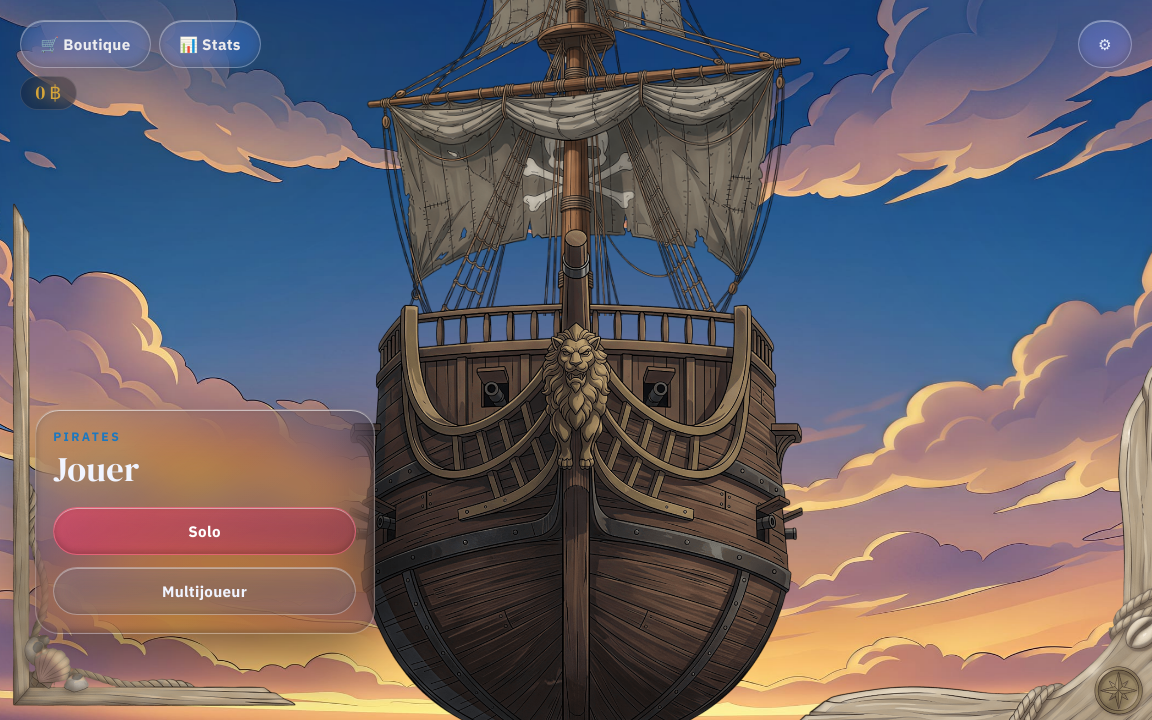
Scenario: DashboardPage — engrenage (touches / déconnexion) › revient au jeu depuis les touches
Step 1. Click the button named "Options" → x=1105, y=44, box [1078,20,1132,68]
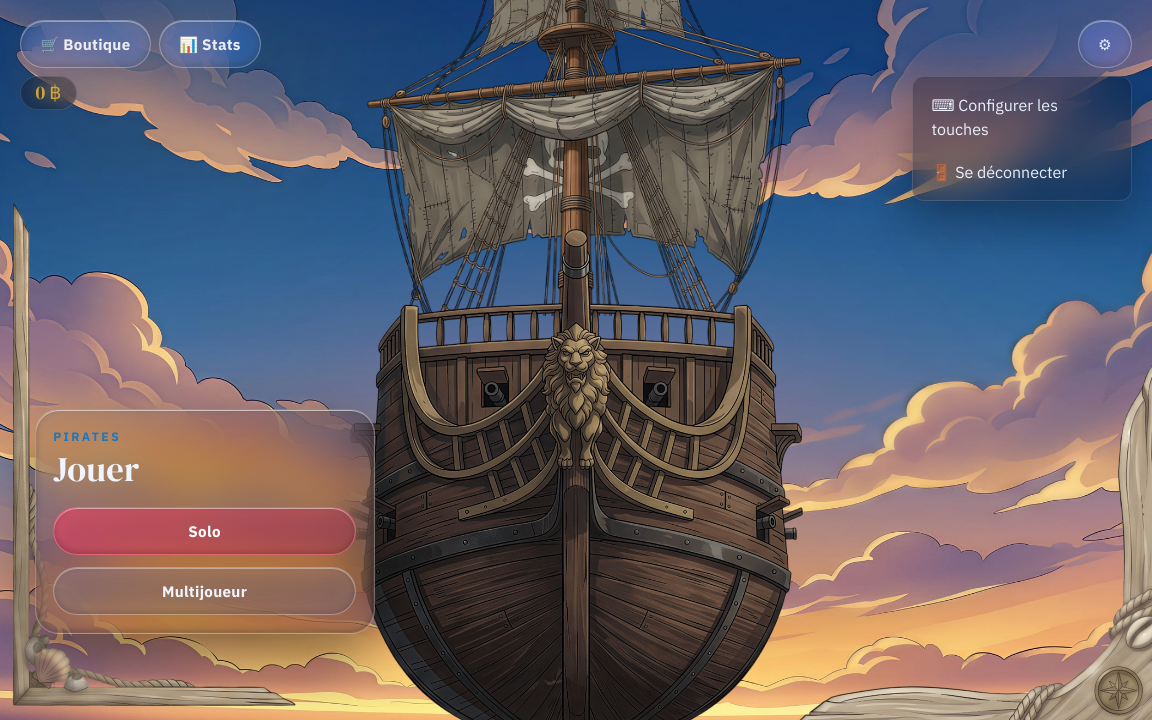
Step 2. Click the menu item "⌨ Configurer les touches" → x=1022, y=117, box [919,83,1125,151]
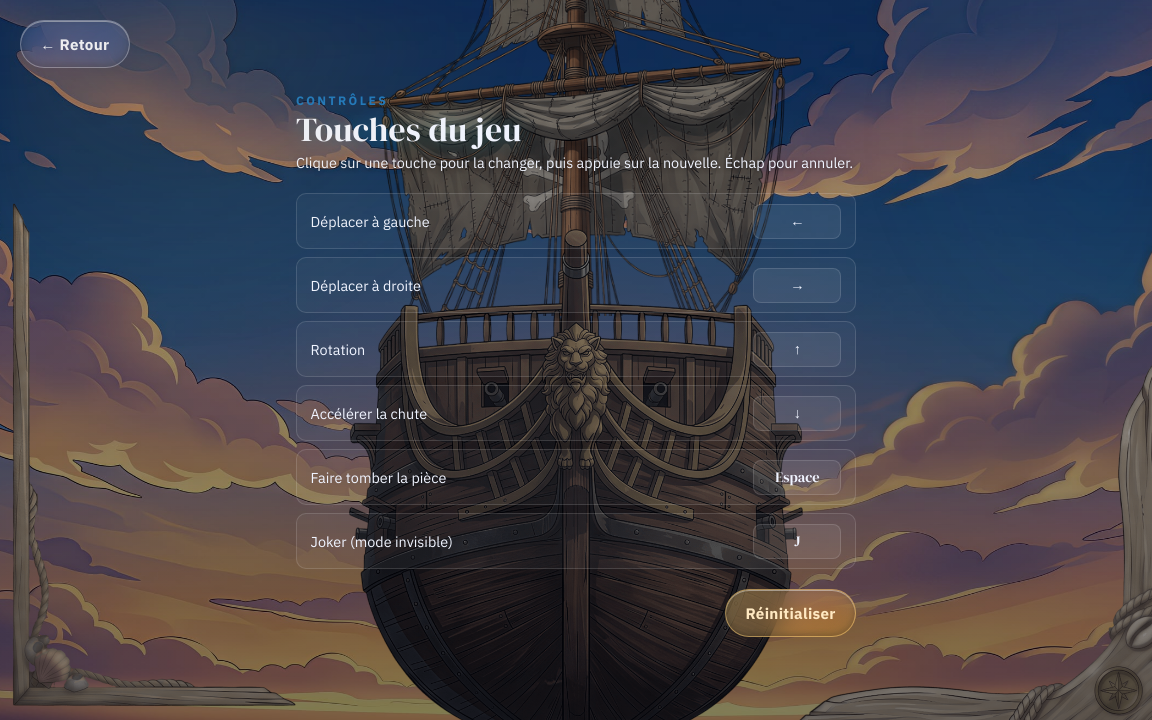
Step 3. Click the button "← Retour" → x=75, y=44, box [20,20,130,68]
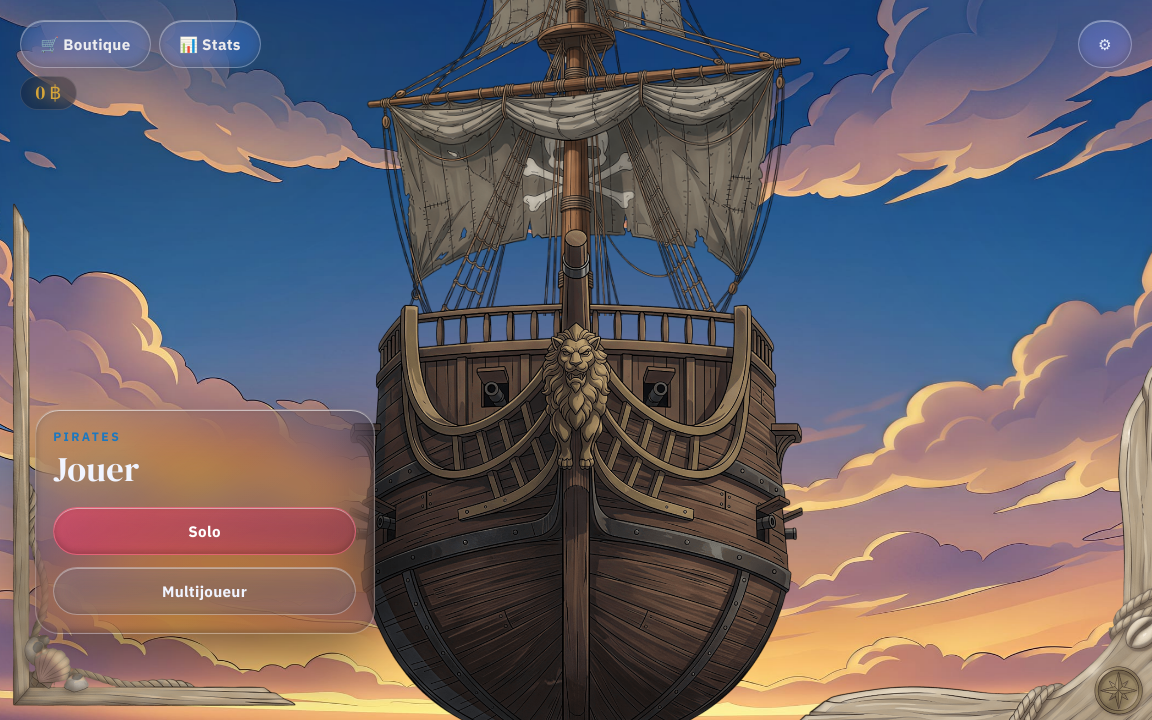
Now the button "Solo" is shown, box [53,507,356,555]
